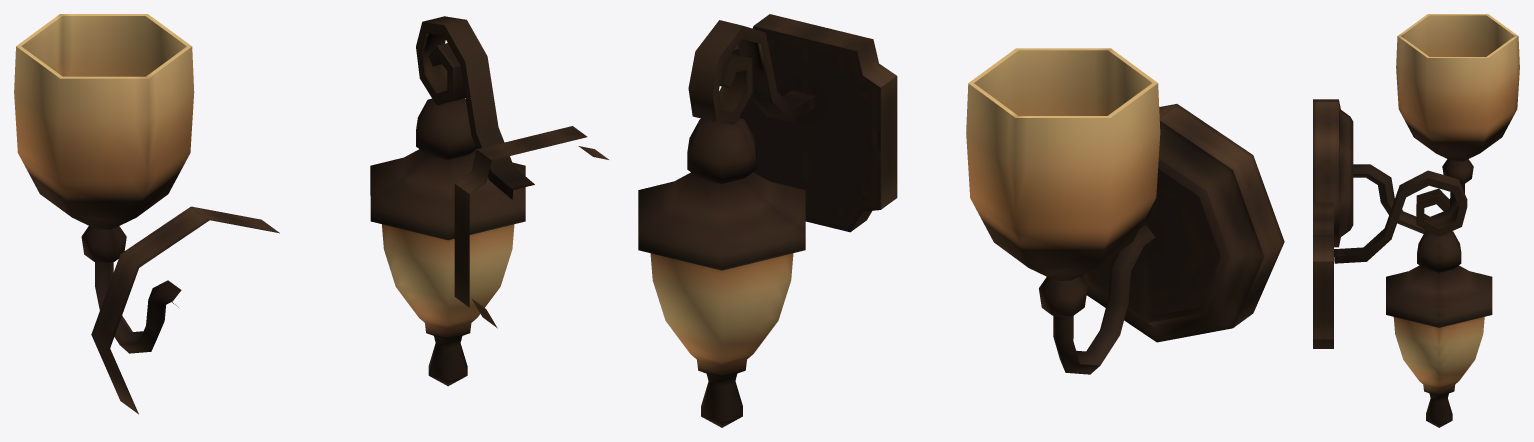
File: Lamp_02a.gltf
3 views of the same model, side by side, from view 1: azimuth 30°, elevation 25°; view 2: azimuth 150°, elevation 25°; view 3: azimuth 270°, elevation 25° (orthographic). The views are drawn at different scales.
Visible parts, largest first — view 1: Lamp_02a; view 2: Lamp_02a; view 3: Lamp_02a.
Boxes of the visible parts, <box> form: Lamp_02a: <box>14,14,608,414</box>; Lamp_02a: <box>638,14,1284,427</box>; Lamp_02a: <box>1313,14,1519,427</box>.
Bounding box in the file's own units: 37.14 × 28.71 × 19.13.
Materials: 1 (1 with a texture image).
